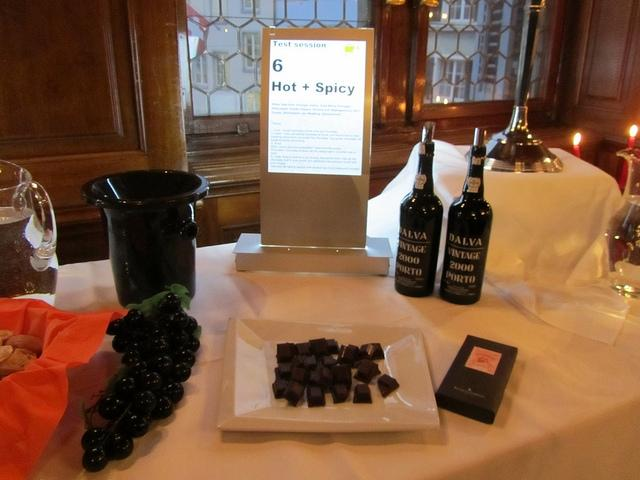grape: (105, 429, 134, 461), (98, 395, 130, 421), (114, 376, 142, 402), (153, 382, 184, 404), (82, 448, 108, 472), (81, 428, 108, 451), (150, 394, 173, 418), (124, 414, 148, 437), (132, 390, 156, 412), (150, 332, 174, 354), (157, 292, 181, 314), (112, 332, 134, 354), (124, 308, 144, 329), (140, 372, 162, 390), (156, 356, 173, 379), (176, 348, 195, 368), (172, 362, 191, 382), (105, 318, 126, 336), (130, 360, 149, 379), (122, 346, 140, 366), (172, 310, 189, 330), (172, 330, 189, 348), (136, 325, 153, 341), (185, 334, 200, 352), (185, 316, 198, 334)
